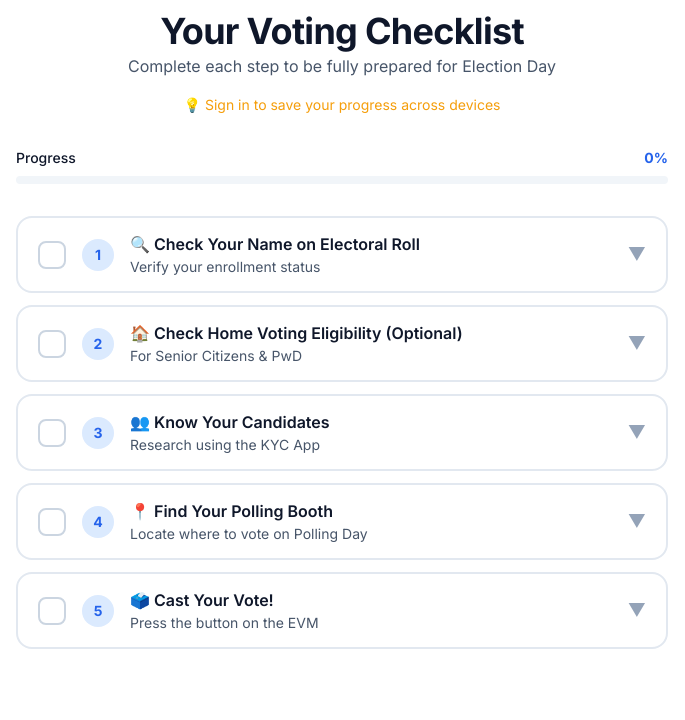
Test: VotingChecklist › collapses an already-expanded item on second click
Click the button with aria-label "Step 1: Check Your Name on Electoral Roll": point(342, 254) [18,218,666,291]
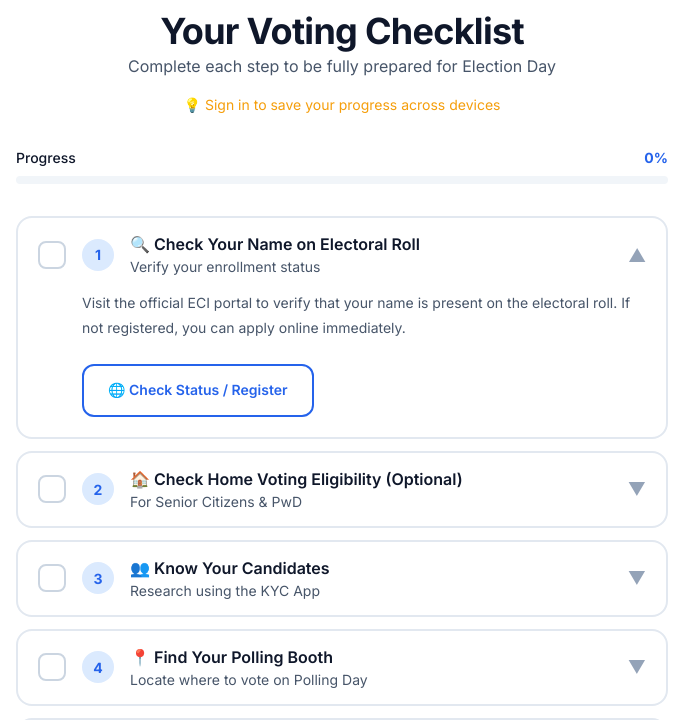
expect the button with aria-label "Step 1: Check Your Name on Electoral Roll" is expanded: met
Click the button with aria-label "Step 1: Check Your Name on Electoral Roll": point(342, 254) [18,218,666,291]
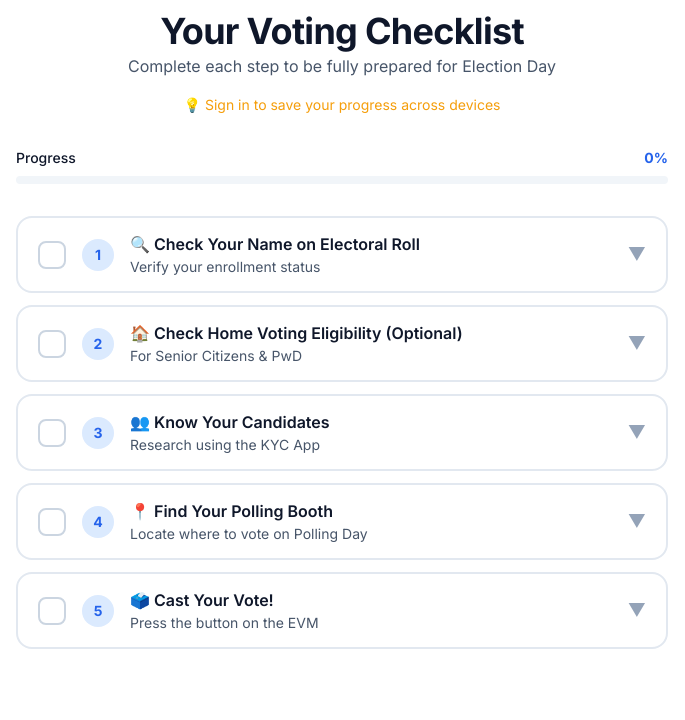
expect the button with aria-label "Step 1: Check Your Name on Electoral Roll" is collapsed: met, box [18,218,666,291]
